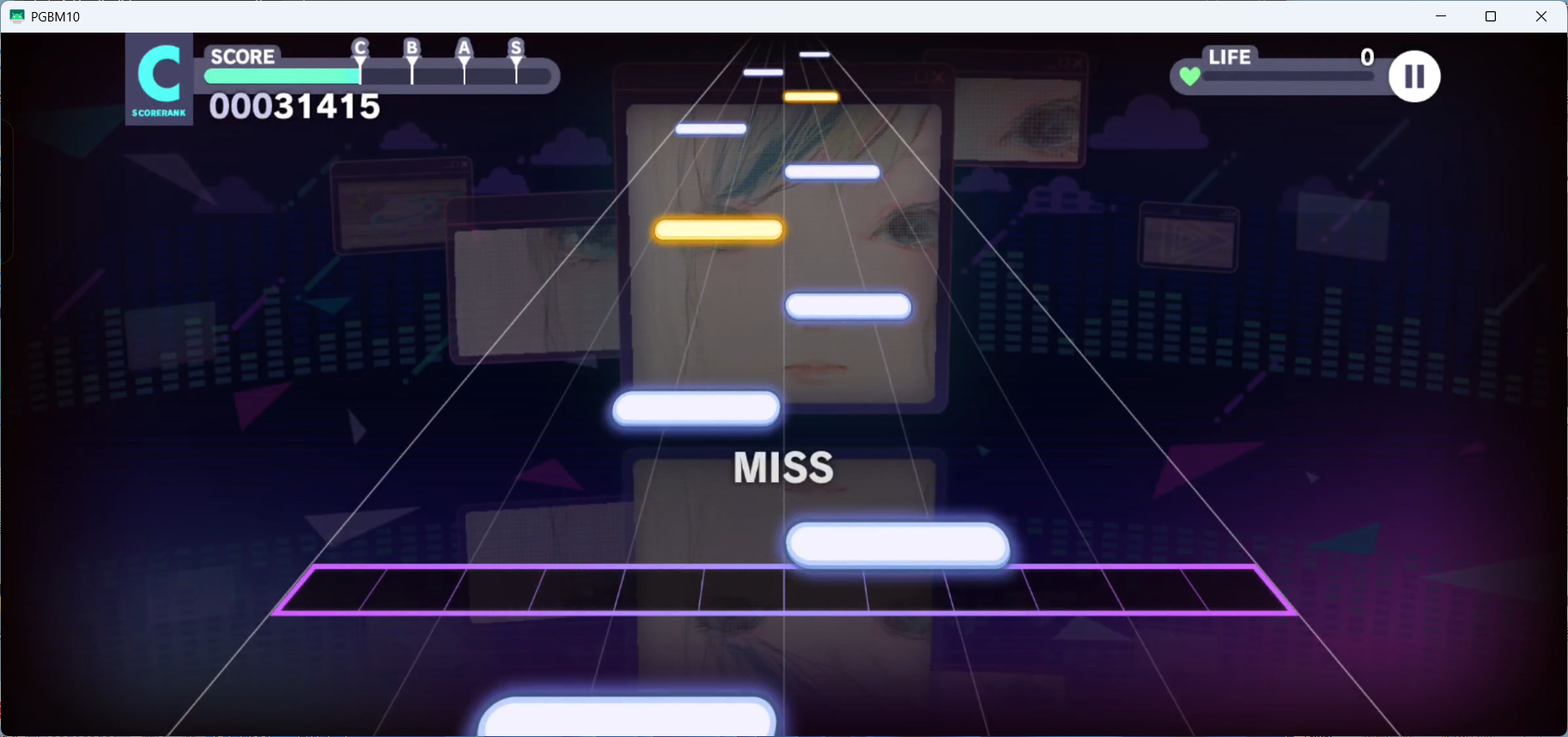tap: (478, 698, 776, 737), (785, 523, 1012, 570), (611, 391, 781, 429), (785, 293, 912, 321), (653, 220, 784, 241), (785, 165, 879, 179), (676, 123, 745, 135), (785, 91, 837, 100), (742, 69, 783, 75), (799, 51, 830, 57)
